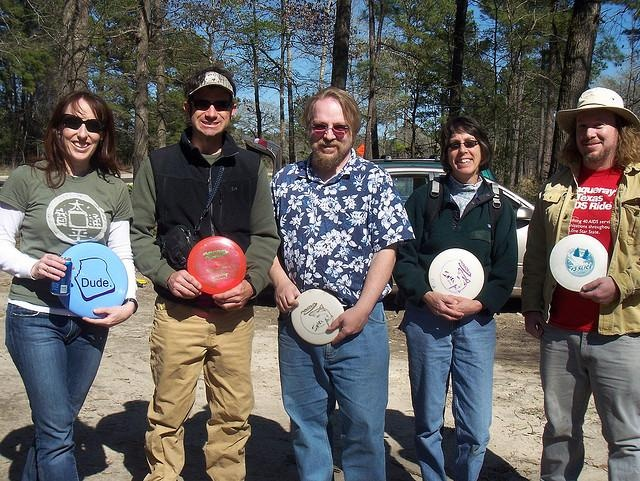person: (117, 63, 281, 481), (267, 86, 406, 481), (2, 92, 140, 481), (521, 83, 640, 478), (401, 112, 524, 481)
